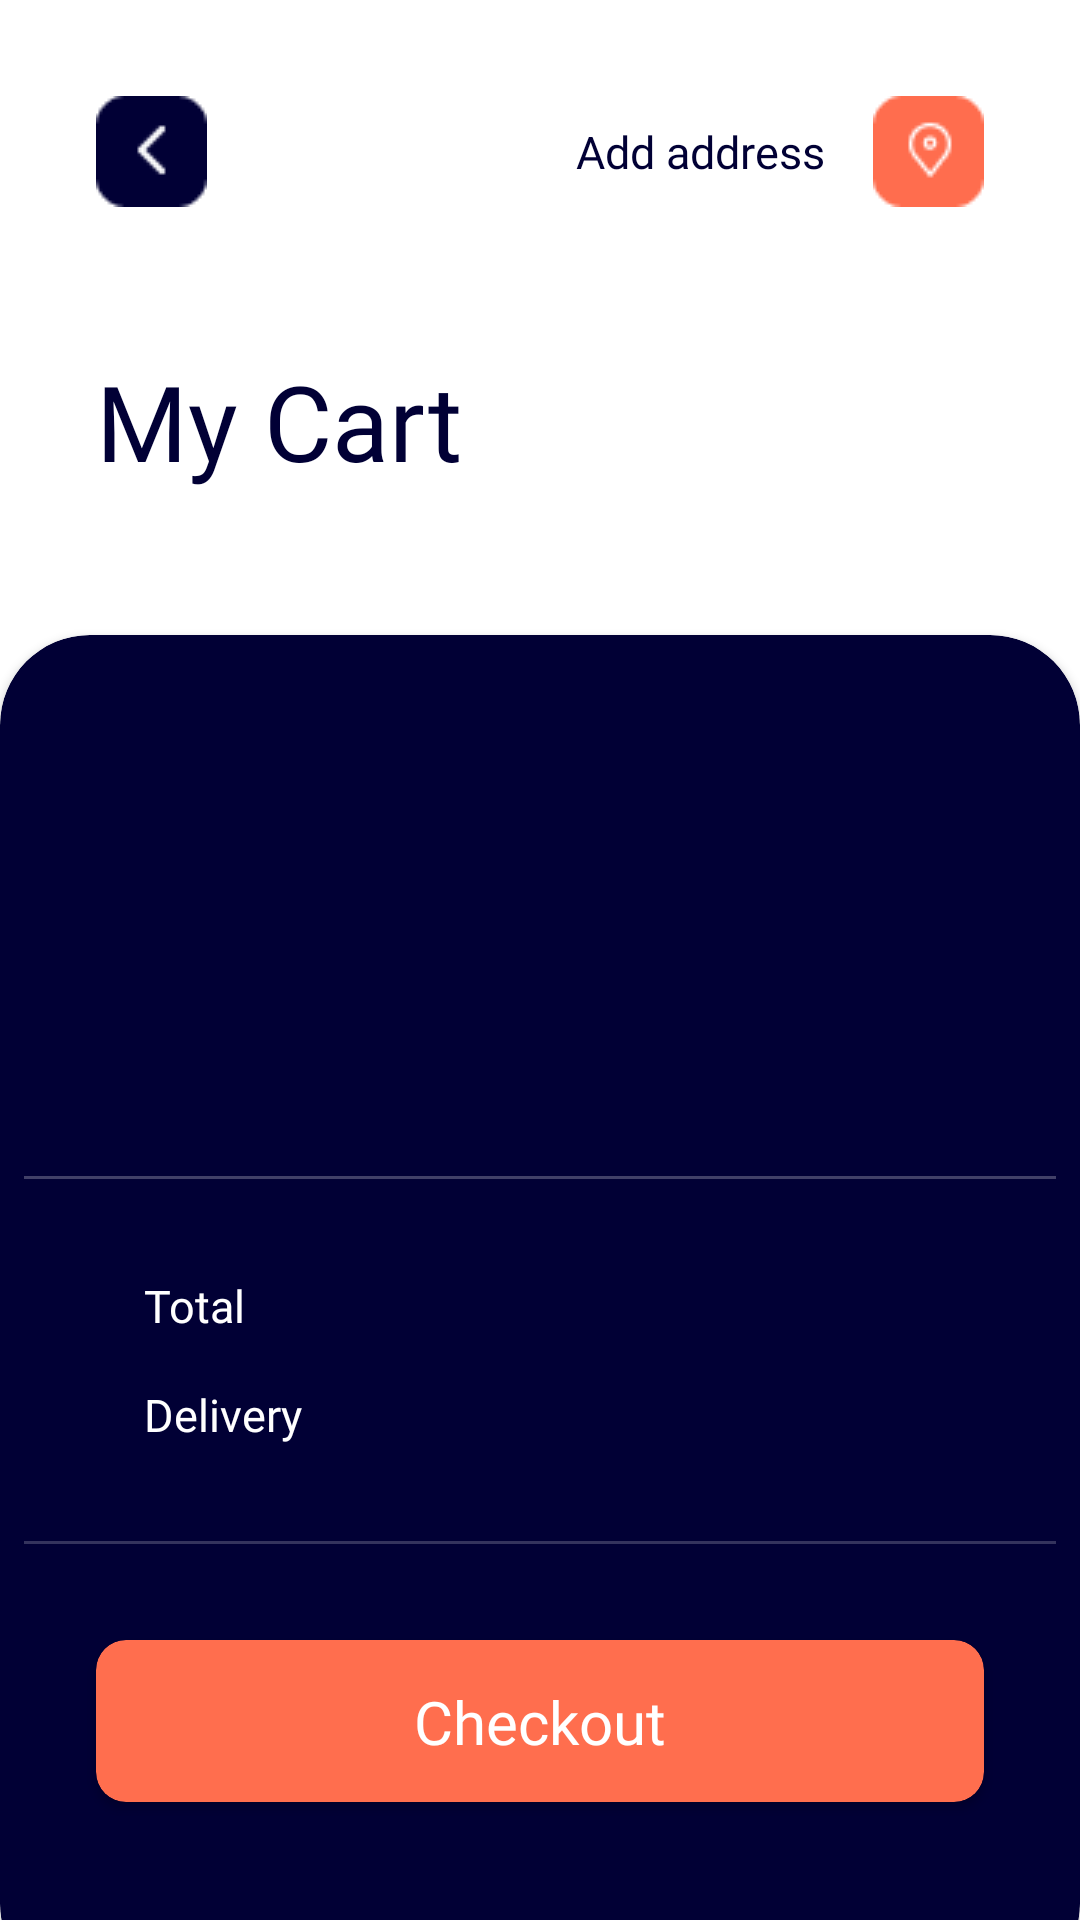

Icon bounding boxes for this 1080x1920 phone screenshot, format (x1, y1, x2, y2):
back: (96, 96, 207, 207)
